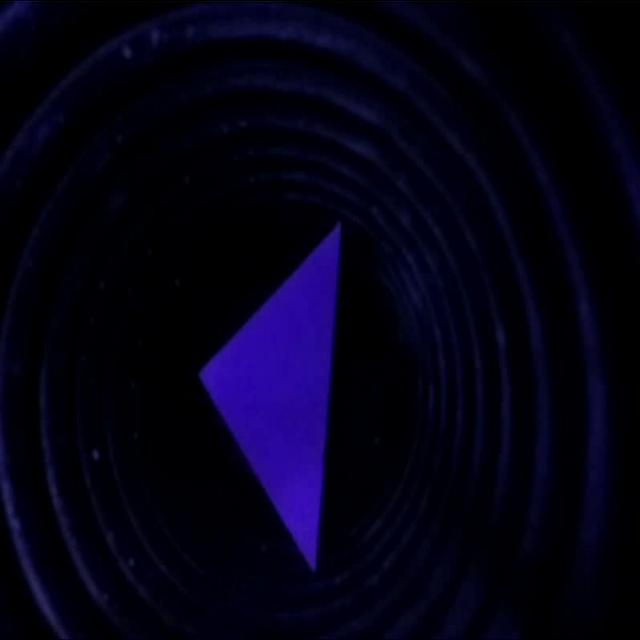obstacles: (196, 217, 339, 572)
